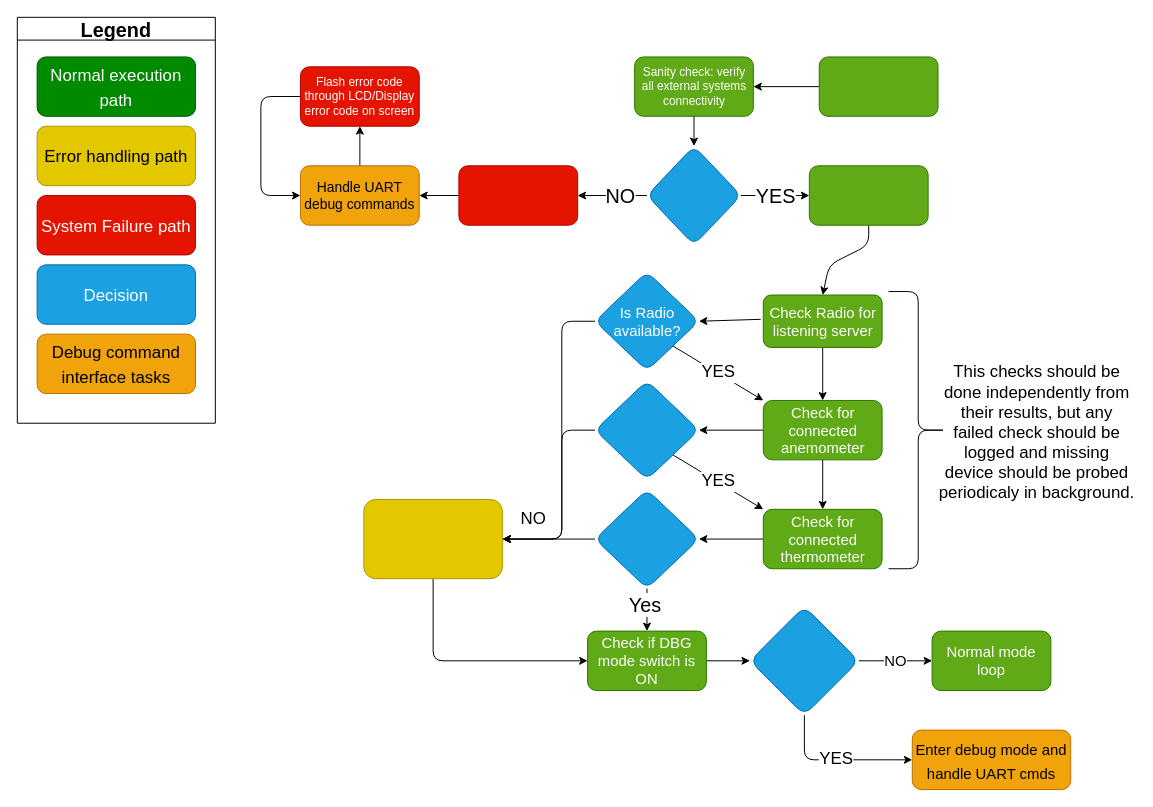
Image size: 1153x807. Some labels were removed from this diagram. The centre of each missing label's shape, as x and y in pixels:
"Boot" belongs at point 878,86.
"Enter Error Handler and halt system" belongs at point 518,195.
"Init all external chips on board" belongs at point 868,195.
"Is ANM available?" belongs at point 646,430.
"Is DBG mode active?" belongs at point 804,660.
"Is THM available?" belongs at point 646,539.
"Log missing device and don't try to initialize or read it." belongs at point 432,538.
"Systems OK?" belongs at point 693,195.
